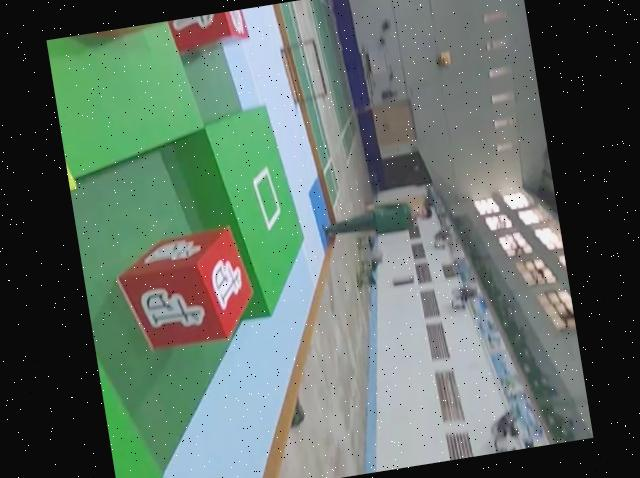R2 Real: (111, 223, 259, 354)
